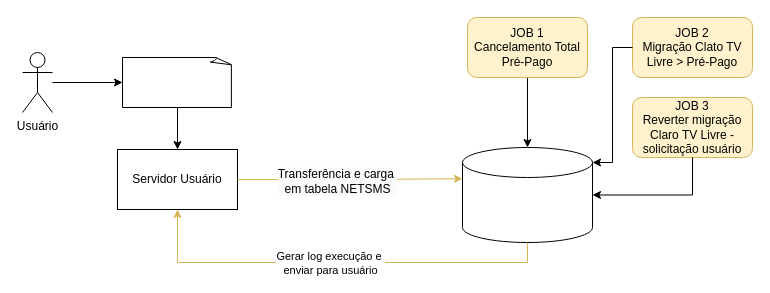
This 770x293 diagram has some shape labels left out. The box of each missing label's shape, as (x1, y1, x2, y2) in pixels:
Mailing: (122, 56, 232, 108)
NETSMS: (462, 146, 592, 242)
